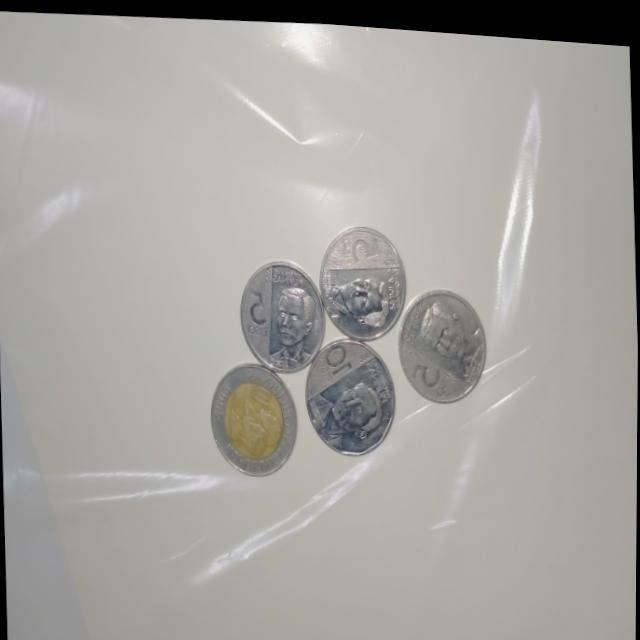10_New_Front: (306, 326, 386, 442)
10_Old_Front: (213, 358, 292, 466)
5_New_Front: (406, 288, 478, 396), (244, 270, 316, 358)
